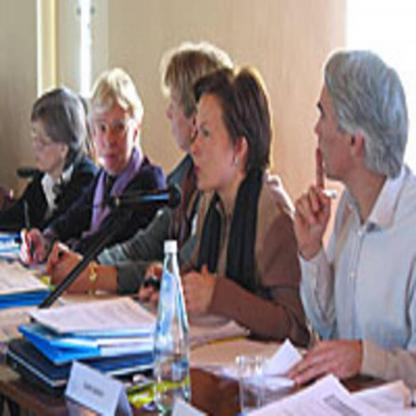face: (312, 80, 346, 181), (191, 117, 232, 184), (94, 107, 136, 169), (165, 78, 193, 147), (31, 122, 60, 172)
